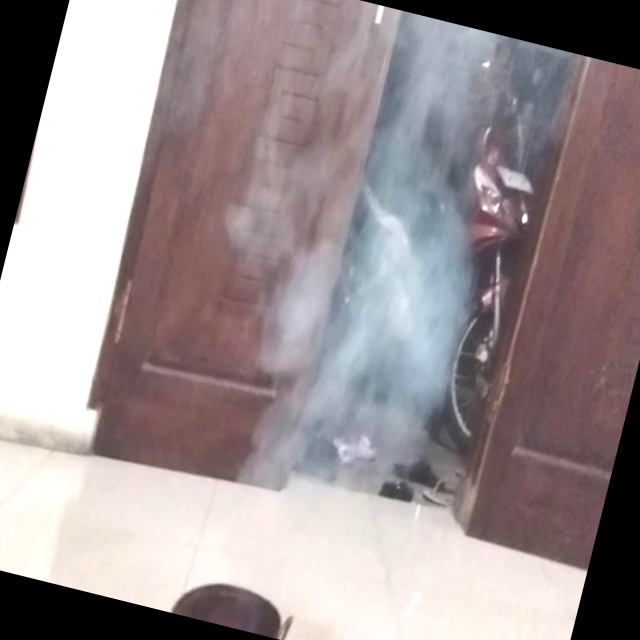smoke: (233, 0, 526, 548)
